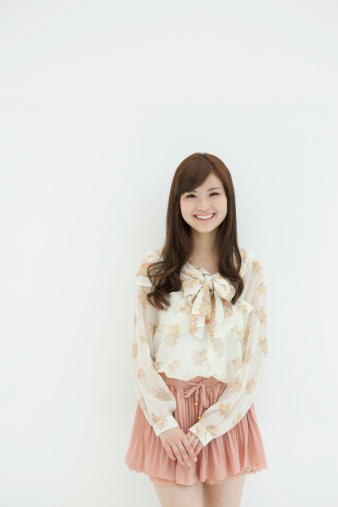em pe: (128, 141, 271, 505)
